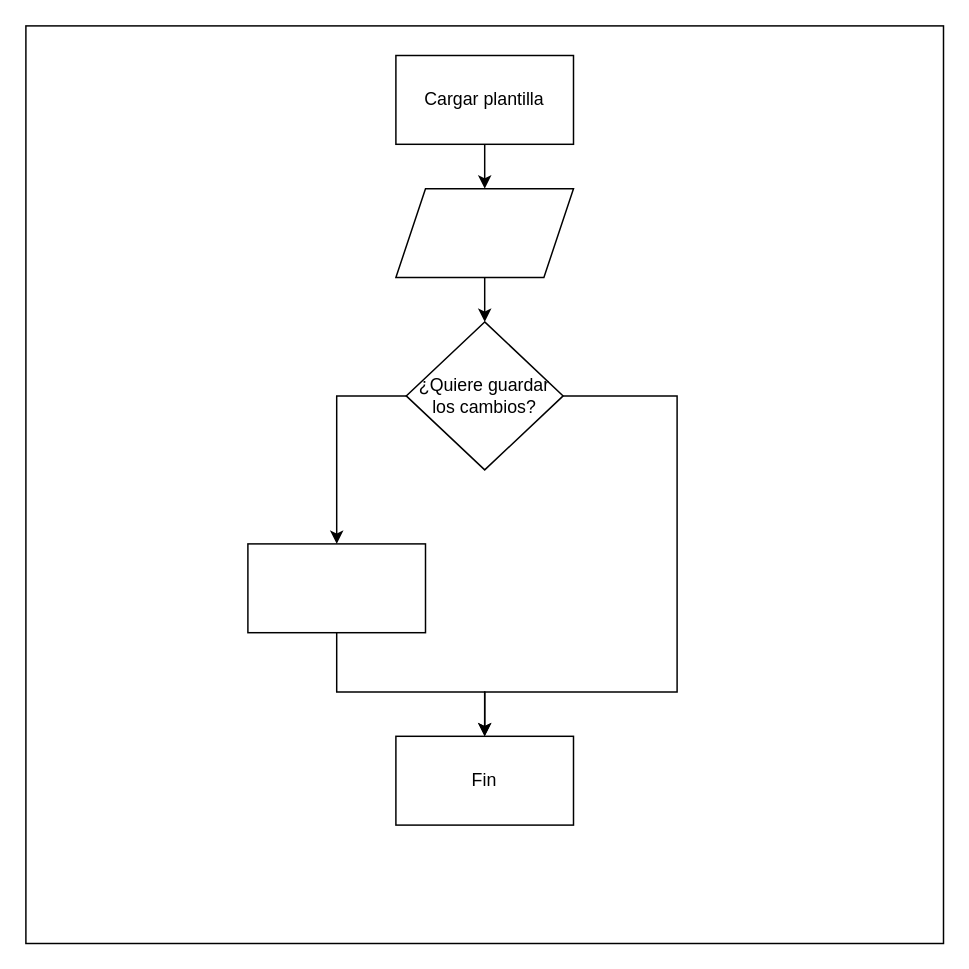
The diagram is 969 pixels wide and 969 high, and some of its shapes have lost their labels. Each missing label, with the box of its shape:
Cargar datos de plantilla: (394, 187, 574, 278)
Guardar cambios: (246, 542, 426, 633)
